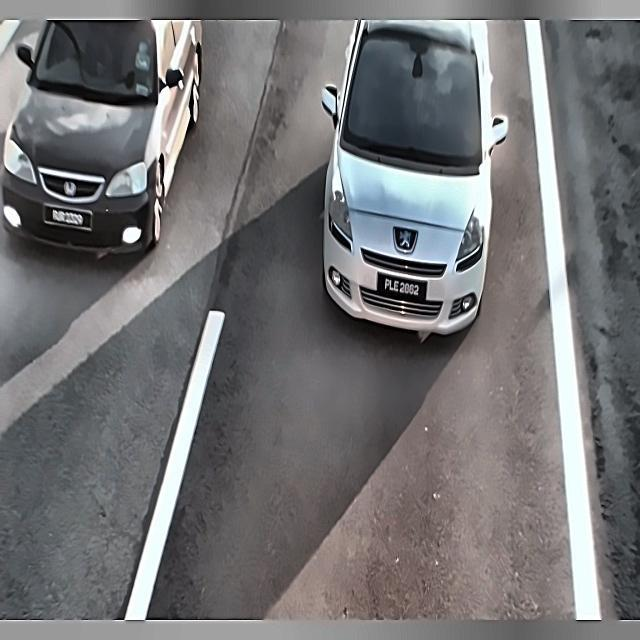car: (38, 200, 100, 239), (373, 268, 430, 308)
